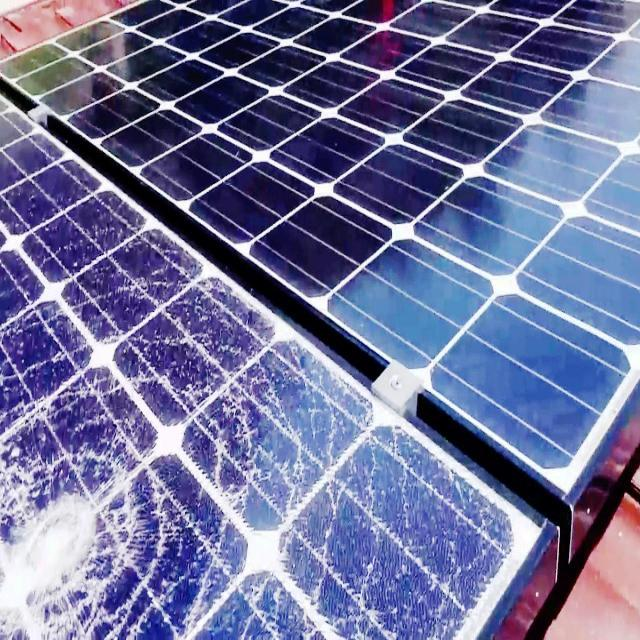faulty: (2, 98, 550, 640)
no faulty: (5, 0, 636, 503)
